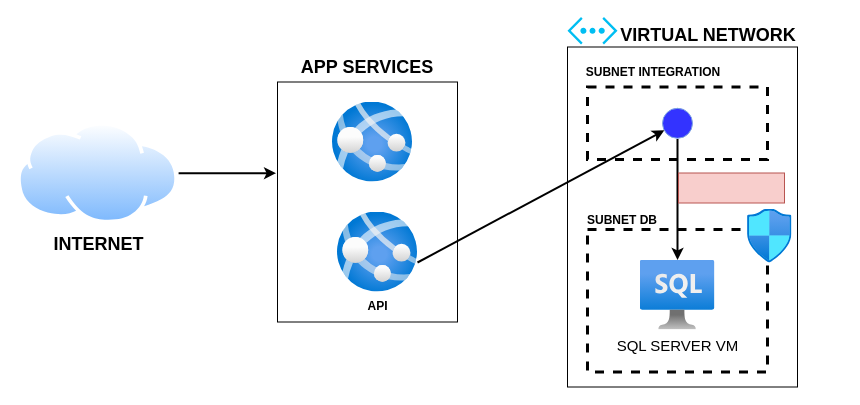
This 860x405 diagram has some shape labels left out. The shapes that lost their labels are listed below. From the top down, each one's centre as x and y in pixels, then its label:
point (372, 142): FRONT
point (731, 187): PUERTO:1433
